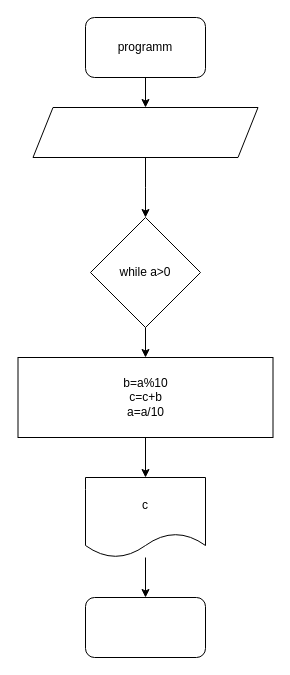
The diagram is 290 pixels wide and 675 high, and some of its shapes have lost their labels. The shapes that lost their labels are listed below. From the top down, each one's box as (x1, y1, x2, y2) in pixels, then its label:
(32, 106, 258, 158): a=1234 b c
(84, 596, 206, 658): end programm
